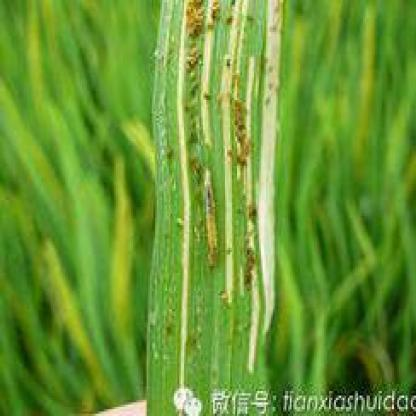leaf-folder: (191, 159, 229, 282)
